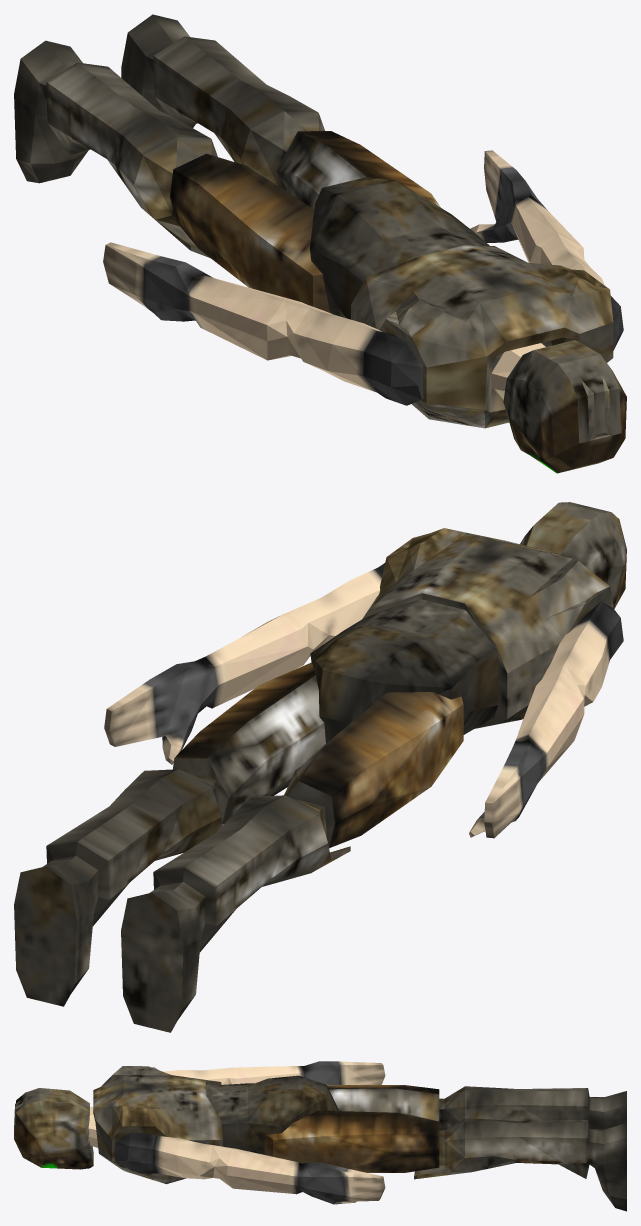
File: fighterMan_wtf.obj
The picture shows the model from 3 angles, top to bottom: view 1: azimuth 30°, elevation 25°; view 2: azimuth 150°, elevation 25°; view 3: azimuth 270°, elevation 25°; orthographic projection. The views are drawn at different scales.
Parts seen in each view (by area): view 1: group1; view 2: group1; view 3: group1.
Boxes of the visible parts, x1=… form: group1: x1=14, y1=14, x2=626, y2=473; group1: x1=14, y1=502, x2=626, y2=1032; group1: x1=14, y1=1061, x2=626, y2=1211.
Size of the model in its own units: 295 by 125 by 660.
